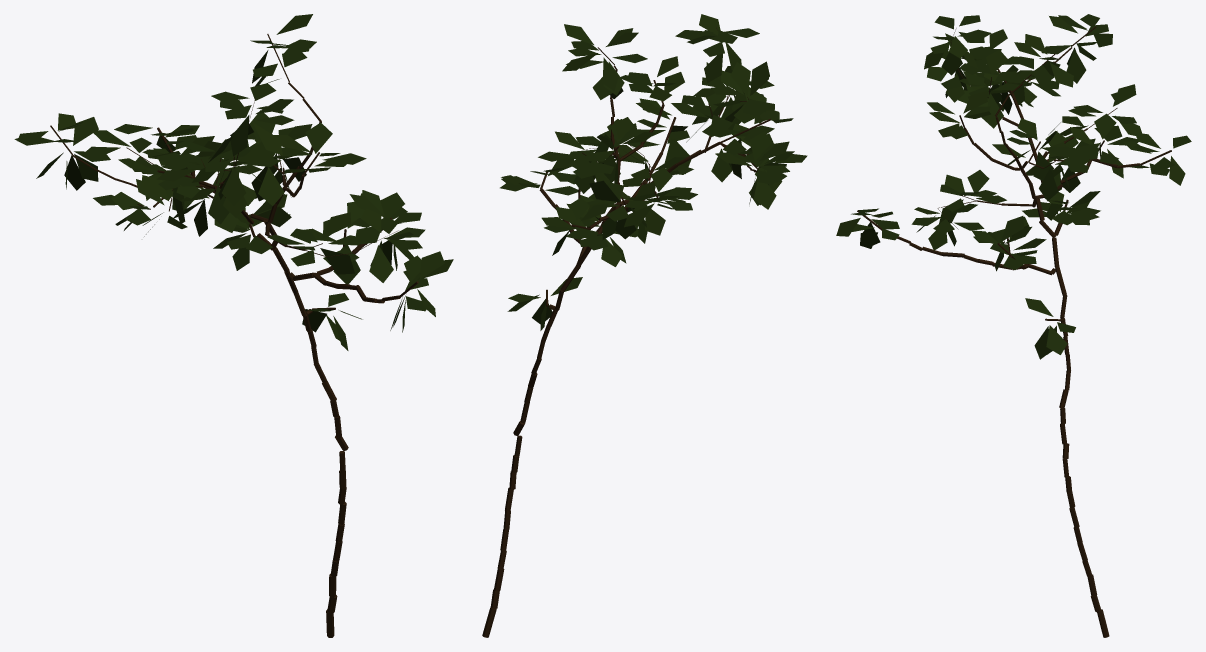
Rendered from tree_382.obj.
The picture shows the model from 3 angles, left to right: view 1: azimuth 30°, elevation 25°; view 2: azimuth 150°, elevation 25°; view 3: azimuth 270°, elevation 25°; orthographic projection. The views are drawn at different scales.
Parts seen in each view (by area): view 1: Leaves, TrunkAndBranches; view 2: Leaves, TrunkAndBranches; view 3: Leaves, TrunkAndBranches.
Boxes of the visible parts, bbox=[...] form: Leaves: bbox=[14, 14, 453, 350]; TrunkAndBranches: bbox=[50, 34, 418, 637]; Leaves: bbox=[500, 14, 807, 330]; TrunkAndBranches: bbox=[482, 27, 770, 637]; Leaves: bbox=[836, 14, 1191, 359]; TrunkAndBranches: bbox=[857, 26, 1171, 637].
Size of the model in its own units: 2.84 by 4.96 by 2.87.
